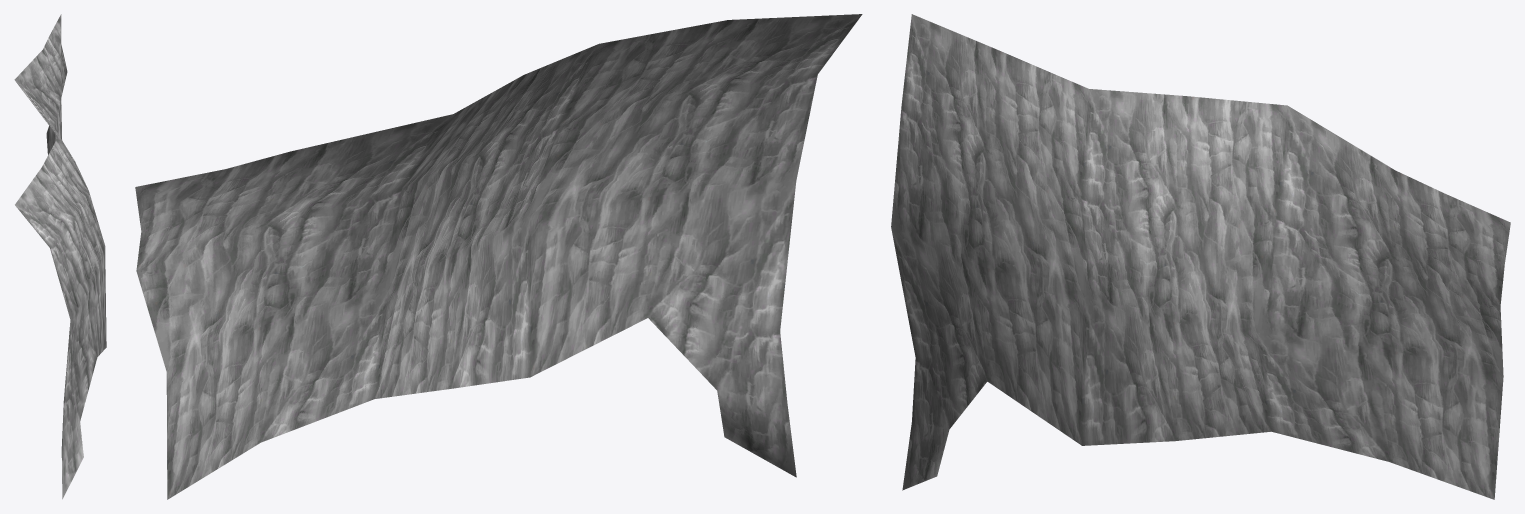
Rendered from SWORDLIGHT20_PS-AREA03_167.fbx.
3 renders of one model, left to right at view 1: azimuth 30°, elevation 25°; view 2: azimuth 150°, elevation 25°; view 3: azimuth 270°, elevation 25°, orthographic. The views are drawn at different scales.
Visible parts, largest first — view 1: SWORDLIGHT20_PS-AREA03_167; view 2: SWORDLIGHT20_PS-AREA03_167; view 3: SWORDLIGHT20_PS-AREA03_167.
Boxes of the visible parts, left/top/right/bottom form: SWORDLIGHT20_PS-AREA03_167: left=14, top=14, right=106, bottom=499; SWORDLIGHT20_PS-AREA03_167: left=135, top=14, right=862, bottom=499; SWORDLIGHT20_PS-AREA03_167: left=891, top=14, right=1510, bottom=499.
Bounding box in the file's own units: 145422 × 168131 × 209957.
Materials: 1 (1 with a texture image).
